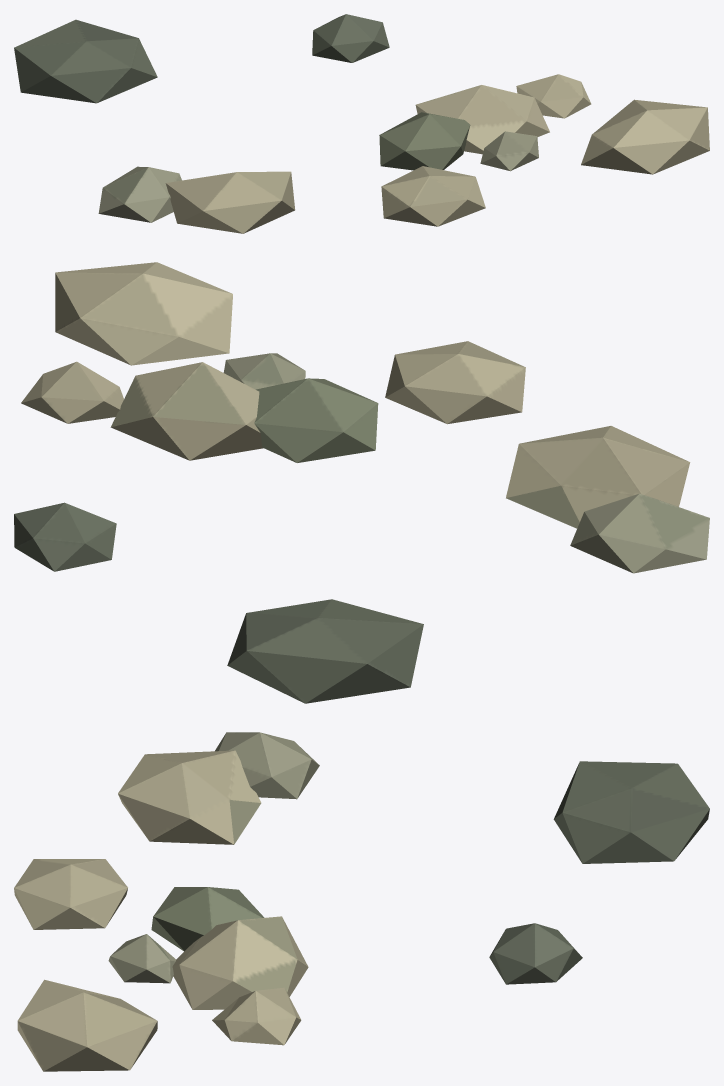
The model's file is SM_Rock_Pebbles.fbx.
The picture shows the model from 3 angles, top to bottom: view 1: azimuth 30°, elevation 25°; view 2: azimuth 150°, elevation 25°; view 3: azimuth 270°, elevation 25°; orthographic projection. The views are drawn at different scales.
Parts seen in each view (by area): view 1: SM_Rock_Pebbles_LOD0; view 2: SM_Rock_Pebbles_LOD0; view 3: SM_Rock_Pebbles_LOD0.
Part boxes in pixels (left/top/right/bottom): SM_Rock_Pebbles_LOD0: left=14, top=14, right=709, bottom=233; SM_Rock_Pebbles_LOD0: left=14, top=262, right=709, bottom=703; SM_Rock_Pebbles_LOD0: left=14, top=732, right=709, bottom=1071.
Size of what is drawn, in the model's own units: 1.09 by 0.1091 by 0.9666.
